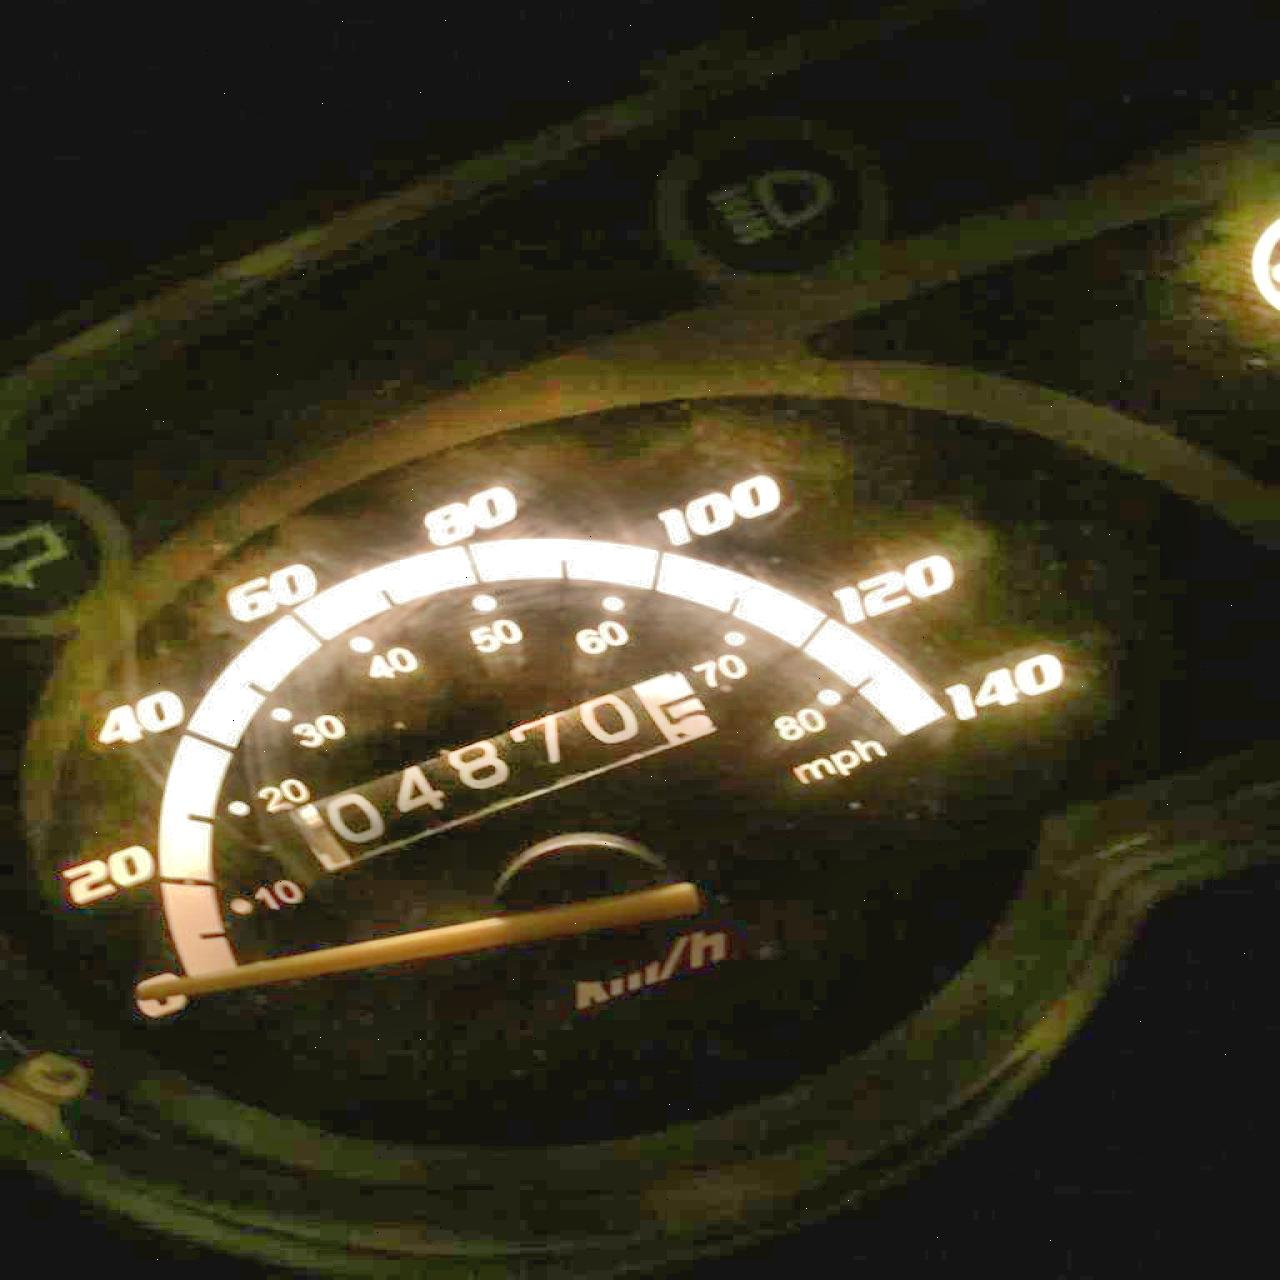0: (320, 790, 384, 844), (576, 695, 636, 745), (312, 714, 346, 737), (280, 775, 305, 801)
3: (290, 720, 324, 750)
4: (387, 763, 447, 823), (363, 655, 394, 682)
5: (652, 689, 719, 740)
7: (510, 713, 567, 763), (693, 660, 716, 695)
8: (443, 740, 509, 790)
odometer: (279, 659, 738, 883)
